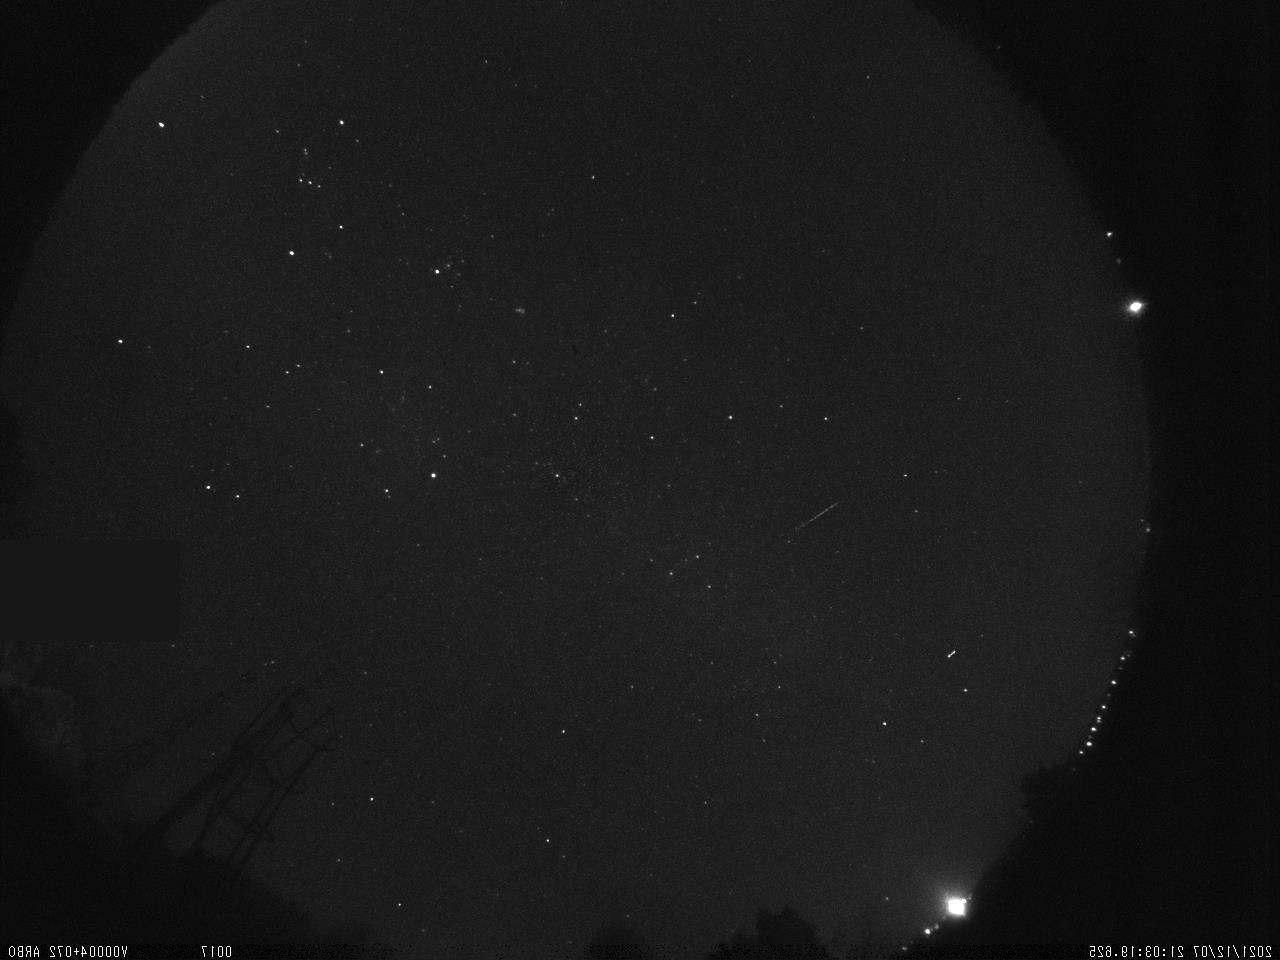meteor: (784, 491, 849, 552)
